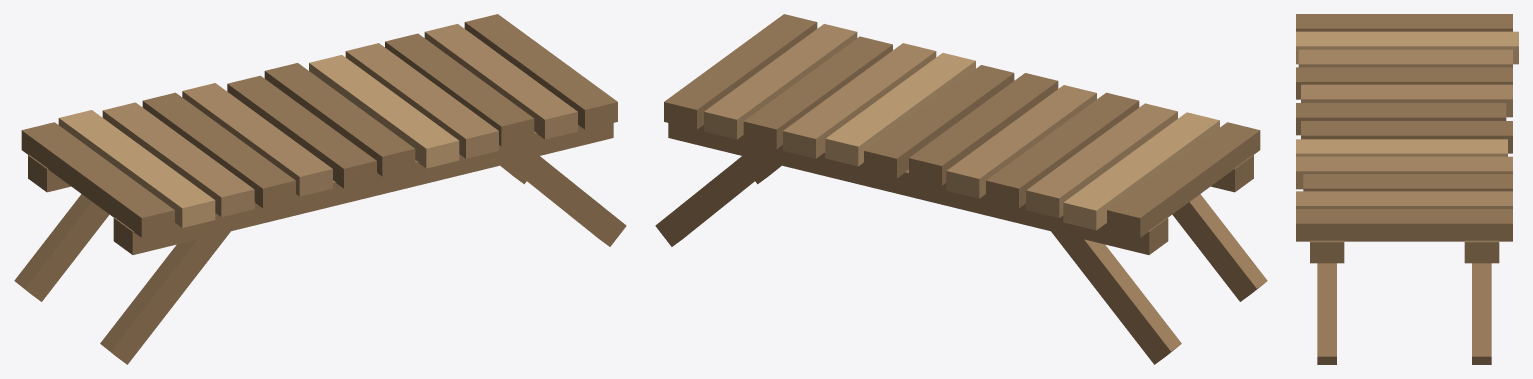
The model's file is SM_Bridge_Wooden_01_B.fbx.
3 renders of one model, left to right at view 1: azimuth 30°, elevation 25°; view 2: azimuth 150°, elevation 25°; view 3: azimuth 270°, elevation 25°, orthographic. The views are drawn at different scales.
Visible parts, largest first — view 1: pCube92; view 2: pCube92; view 3: pCube92.
Boxes of the visible parts, x1,y1,x2,y2 form: pCube92: [14, 14, 626, 364]; pCube92: [655, 14, 1267, 364]; pCube92: [1296, 14, 1518, 364].
Size of the model in its own units: 218 by 62.51 by 90.37.
Materials: 1 (1 with a texture image).
